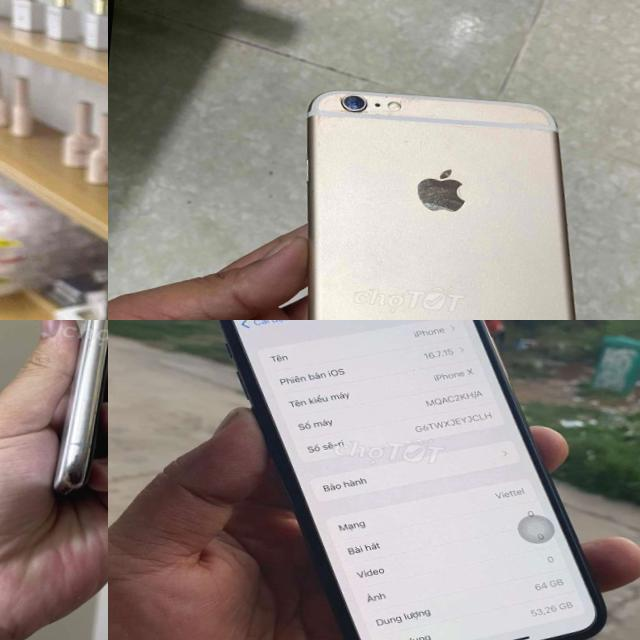scratch: (313, 82, 427, 136), (62, 446, 92, 479)
